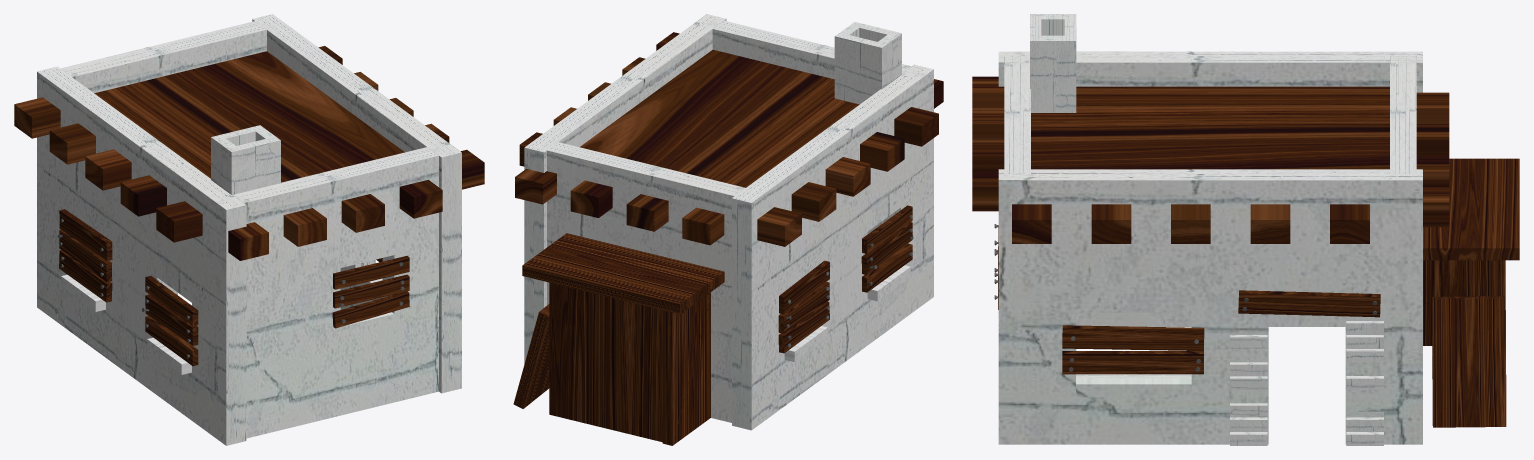
File: House_M_2.fbx
The picture shows the model from 3 angles, left to right: view 1: azimuth 30°, elevation 25°; view 2: azimuth 150°, elevation 25°; view 3: azimuth 270°, elevation 25°; orthographic projection. The views are drawn at different scales.
Visible parts, largest first — view 1: pCube2, pCube3, pCube5, pCube1, pCube4, pCube13, pCube57, pCube56, pCube55, pCube58, pCube20, pCube23 (+3 smaller); view 2: pCube2, pCube5, pCube4, pCube6, pCube1, pCube8, pCube7, pCube13, pCube3, pCube53, pCube58, pCube20 (+4 smaller); view 3: pCube1, pCube5, pCube2, pCube53, pCube8, pCube13, pCube54, pCube18, pCube16, pCube4, pCube3, pCube7 (+12 smaller).
Boxes of the visible parts, x1,y1,x2,y2 form: pCube2: (37,66,246,445); pCube3: (221,145,447,438); pCube5: (14,46,484,260); pCube1: (252,14,461,393); pCube4: (60,21,275,93); pCube13: (211,125,280,194); pCube57: (332,291,409,328); pCube56: (333,256,409,289); pCube55: (333,274,409,308); pCube58: (59,209,112,260); pCube20: (145,294,198,345); pCube23: (59,230,111,282); pCube2: (732,64,933,430); pCube5: (515,32,943,246); pCube4: (538,142,752,422); pCube6: (549,282,662,442); pCube1: (524,14,726,363); pCube8: (522,233,724,314); pCube7: (662,292,710,445); pCube13: (834,22,901,233); pCube3: (706,19,922,79); pCube53: (513,304,549,408); pCube58: (779,260,829,314); pCube20: (861,222,912,274); pCube1: (998,169,1422,444); pCube5: (972,76,1449,243); pCube2: (998,51,1422,326); pCube53: (1432,296,1506,427); pCube8: (1423,158,1519,260); pCube13: (1030,14,1076,350); pCube54: (1062,325,1204,350); pCube18: (1238,290,1380,317); pCube16: (1062,351,1203,374); pCube4: (1390,56,1416,174); pCube3: (1004,56,1030,174); pCube7: (1423,260,1505,345).
Size of the model in its own units: 14.3 by 13.01 by 20.66.
